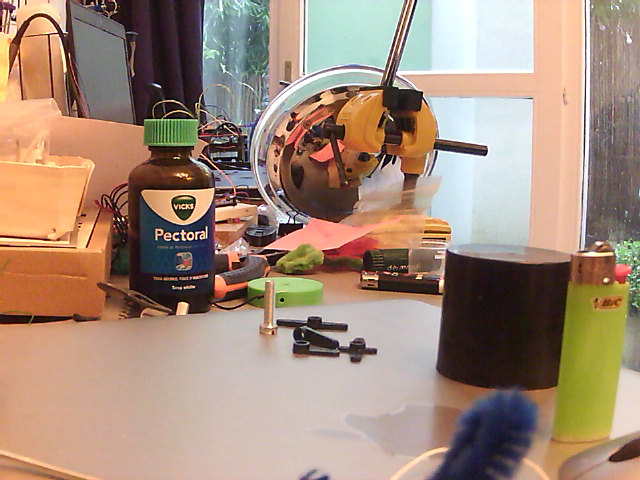bolt: (260, 280, 279, 337)
lighter: (548, 247, 632, 446)
